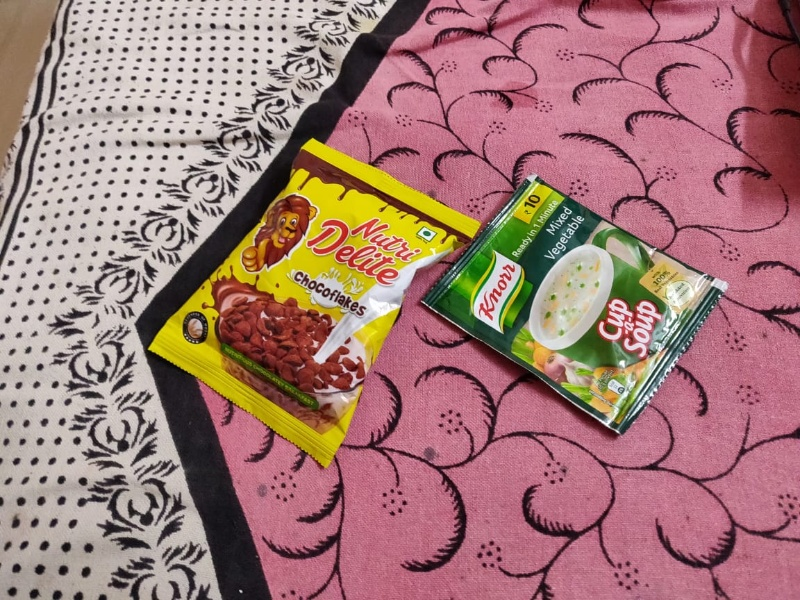Knorr_Cup_Soup: (421, 170, 729, 444)
nutriDelite: (148, 109, 458, 470)
